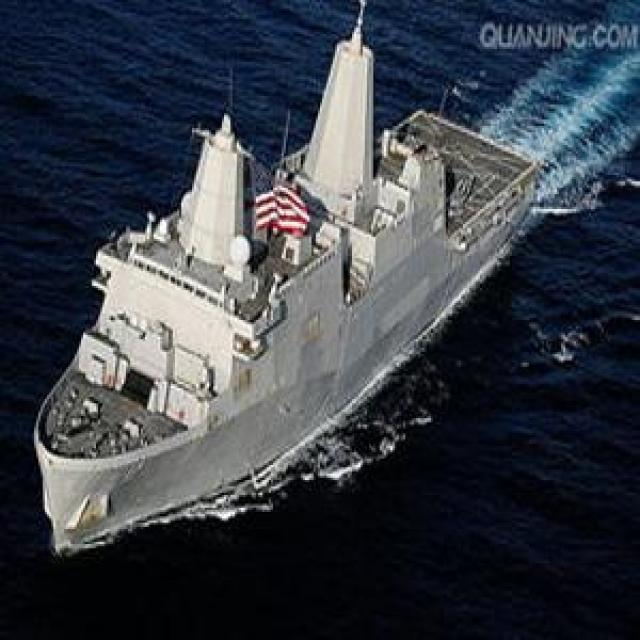navalvessels: (39, 23, 537, 543)
